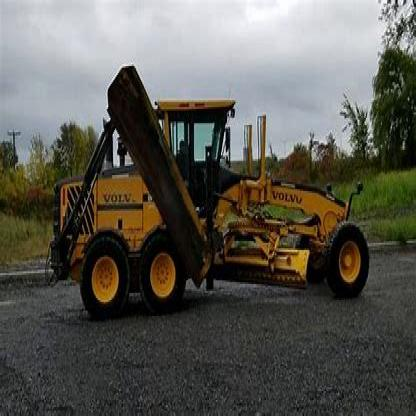bull_dozer/loader/grader: (53, 64, 384, 320)
